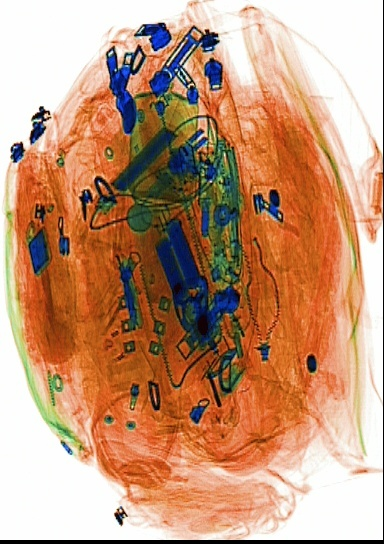powerbank: (99, 121, 184, 199)
